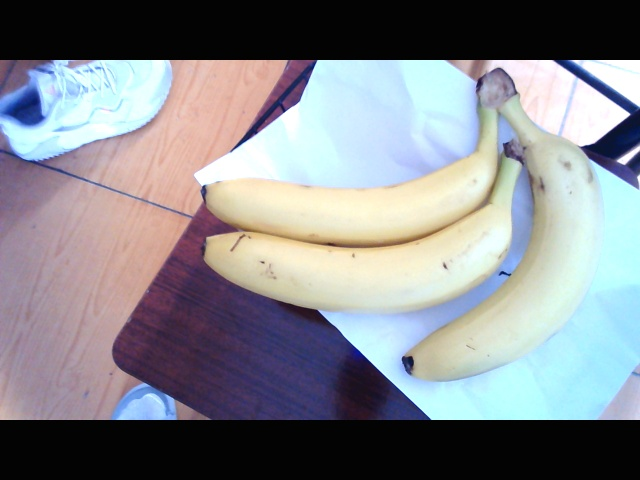banana: (209, 109, 592, 381)
